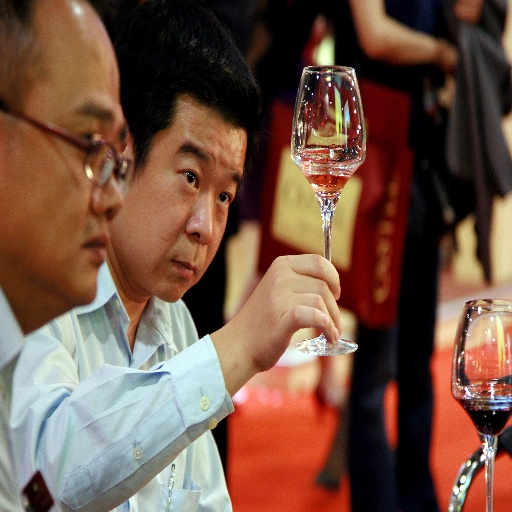hand: (231, 248, 347, 353), (452, 0, 483, 26), (439, 37, 458, 71)
